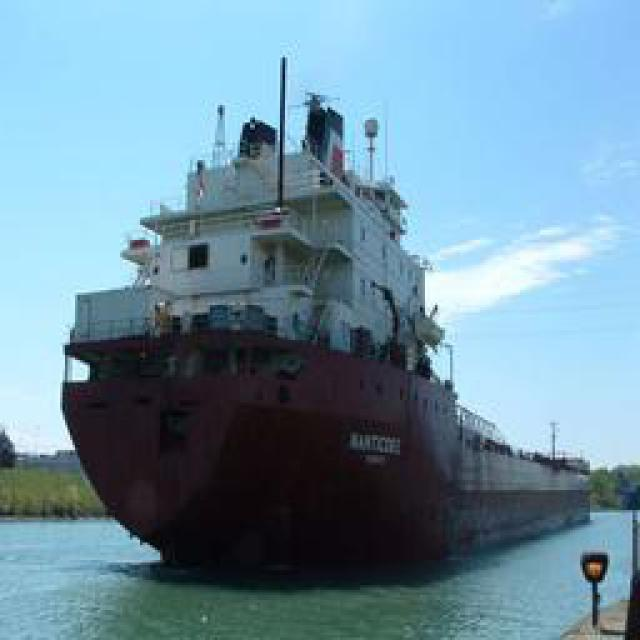Ship: (57, 71, 605, 555)
